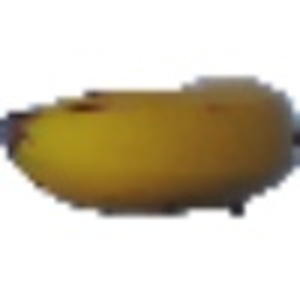banana: (1, 68, 296, 223)
